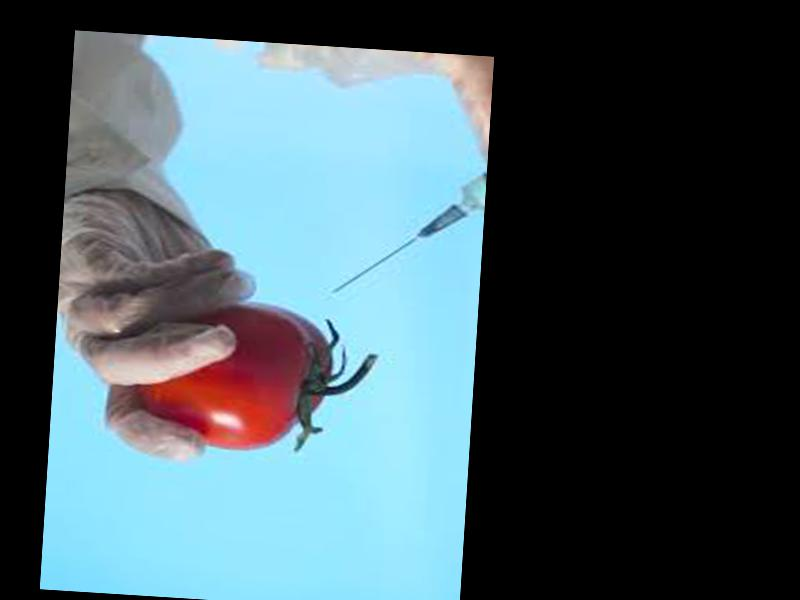Tomato: (133, 298, 335, 456)
